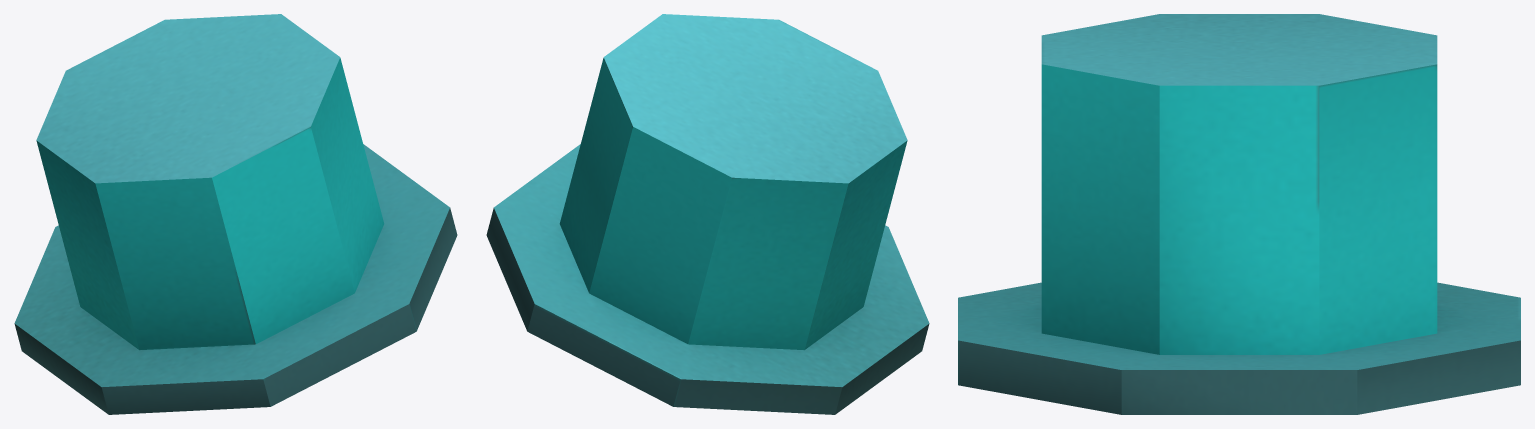
File: Hat5.FBX
3 views of the same model, side by side, from view 1: azimuth 30°, elevation 25°; view 2: azimuth 150°, elevation 25°; view 3: azimuth 270°, elevation 25° (orthographic). The views are drawn at different scales.
Visible parts, largest first — view 1: Hat5; view 2: Hat5; view 3: Hat5.
Part boxes in pixels (bbox=[...]): Hat5: bbox=[14, 14, 457, 414]; Hat5: bbox=[486, 14, 929, 414]; Hat5: bbox=[958, 14, 1520, 414].
Bounding box in the file's own units: 137 × 139 × 106.
1 material, 1 textured.
